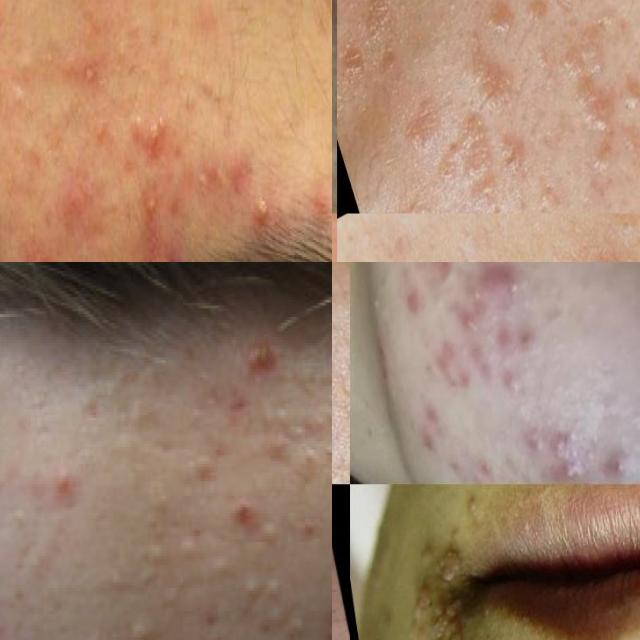acne_scars: (422, 329, 498, 409), (403, 262, 473, 309), (467, 450, 500, 484)
comedone: (6, 36, 38, 130), (407, 395, 452, 453), (540, 421, 576, 472), (363, 281, 390, 321), (460, 273, 490, 307), (581, 437, 601, 468), (563, 421, 581, 453)
flat_wart: (422, 82, 524, 214), (549, 0, 640, 147), (363, 532, 471, 640), (482, 109, 556, 214), (460, 28, 527, 126), (392, 86, 453, 164), (471, 0, 534, 61), (353, 0, 406, 47), (617, 107, 640, 213), (514, 0, 561, 43), (332, 404, 350, 484)
folliculitis: (129, 180, 168, 220), (73, 49, 105, 94)
papule: (506, 309, 546, 363), (492, 262, 534, 310), (598, 440, 636, 484), (546, 452, 588, 484), (524, 421, 547, 467), (496, 356, 520, 399), (453, 308, 483, 339)
pustule: (248, 178, 280, 246), (584, 250, 633, 262)
